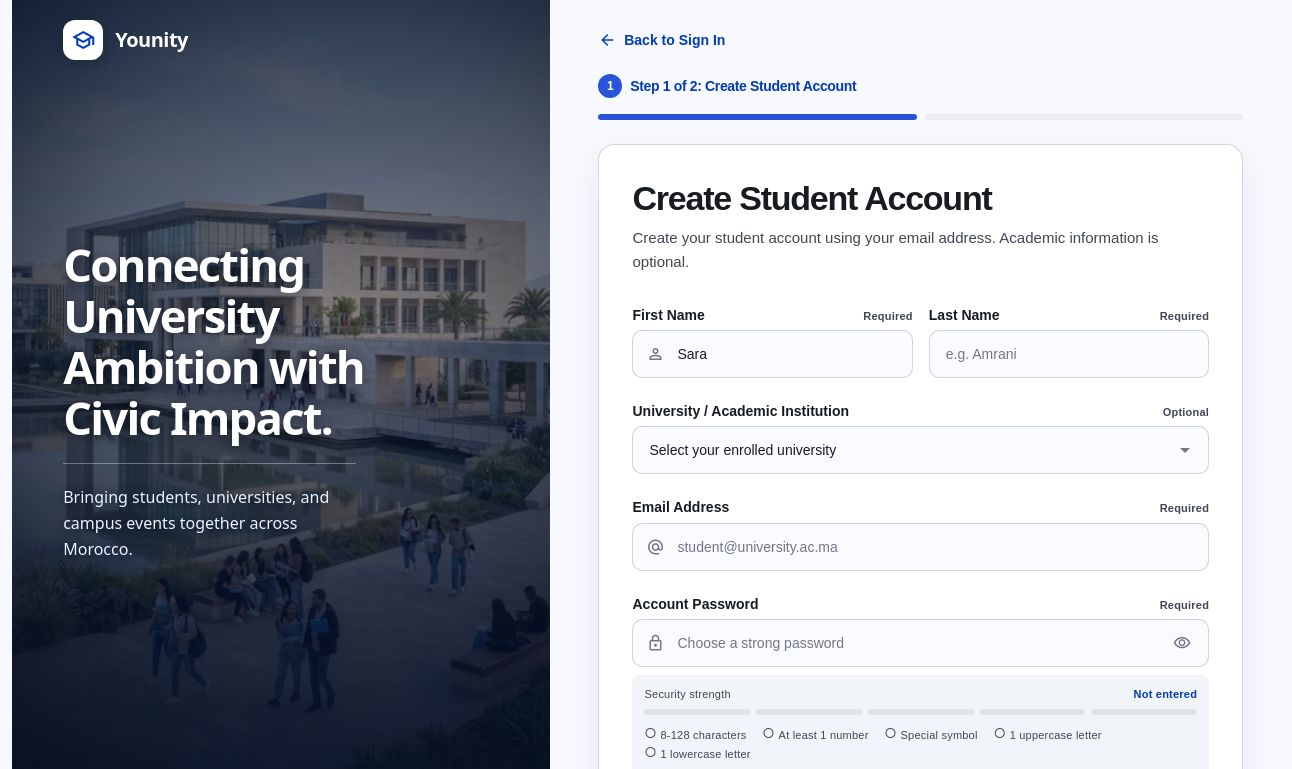
Test: registration handoff to email verification › submits student registration directly to email verification with no preferences selected
Earlier steps of the test are not shown.
Type "Test" into the field labelled "Last Name" at (1069, 354), box x1=929 y1=330 x2=1209 y2=378
Select "Other" in the dropdown labelled "University / Academic Institution" at (921, 450), box x1=632 y1=426 x2=1209 y2=474
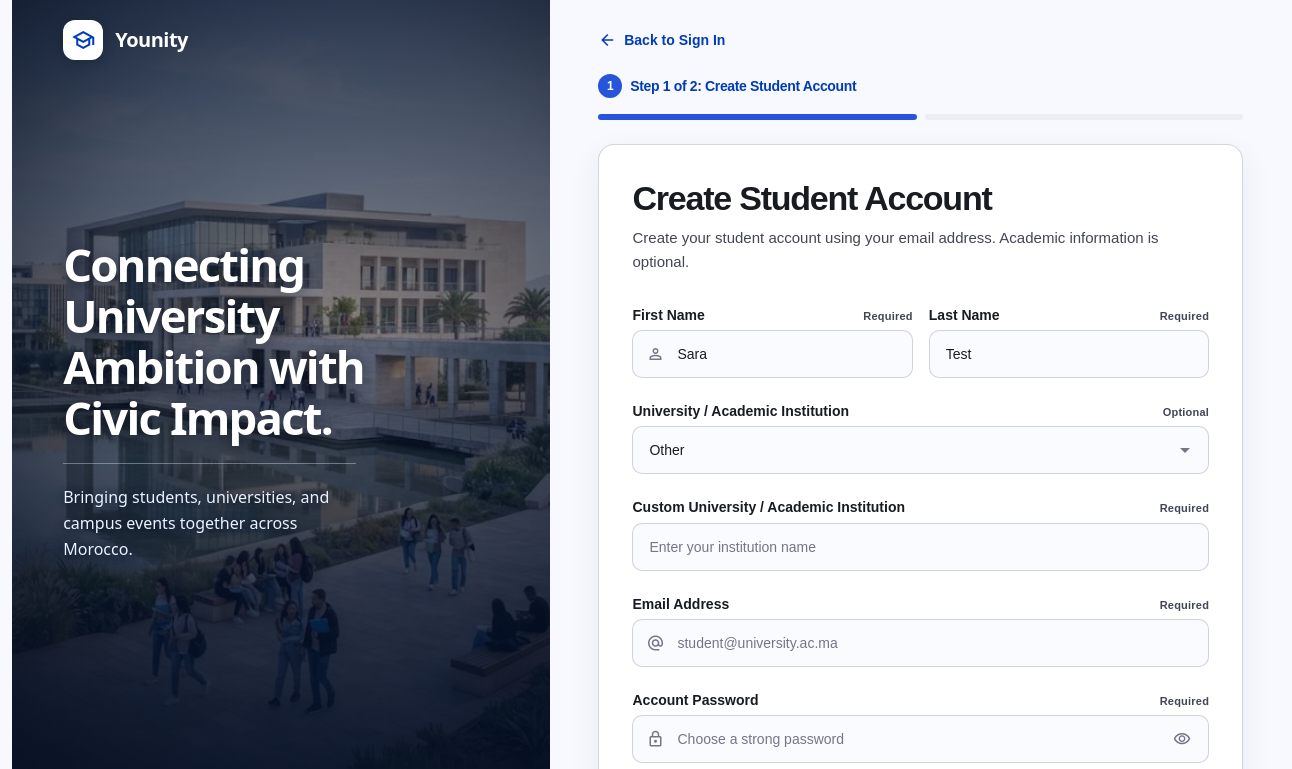
Type "Test Institute" into the field labelled "Custom University / Academic Institution" at (921, 547), box x1=632 y1=523 x2=1209 y2=571
Type "sara@example.test" into the field labelled "Email Address" at (921, 643), box x1=632 y1=619 x2=1209 y2=667
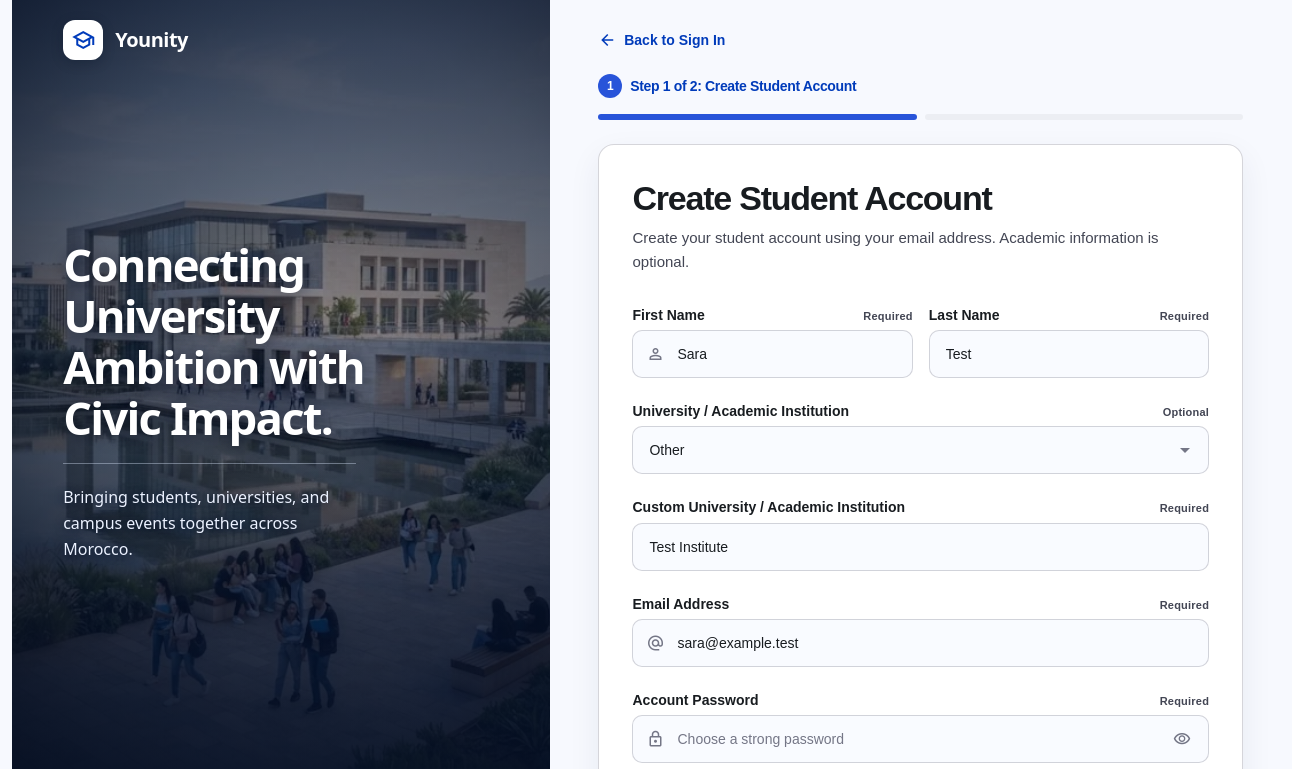
Type "Abcdefg1!" into the password field labelled "Account Password" at (921, 739), box x1=632 y1=715 x2=1209 y2=763
(page scrolled)
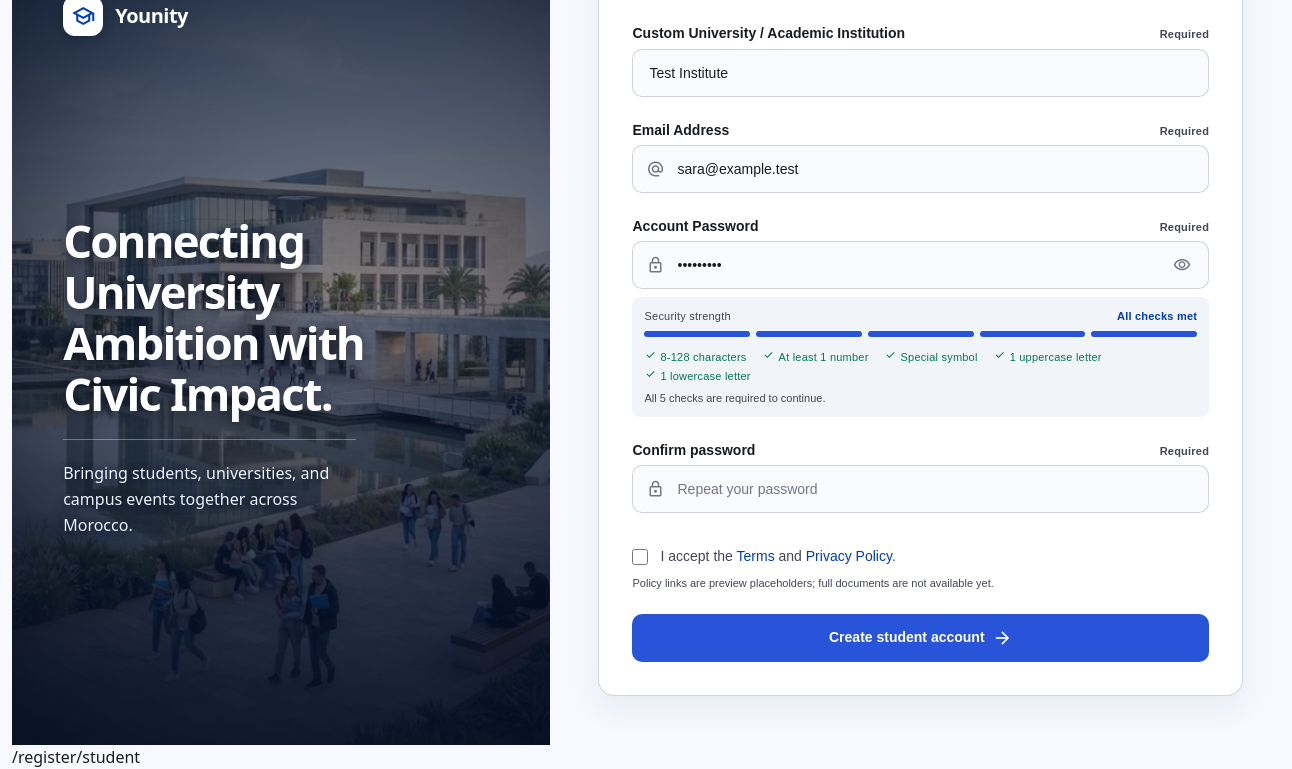
Type "Abcdefg1!" into the password field labelled "Confirm password" at (921, 489), box x1=632 y1=465 x2=1209 y2=513
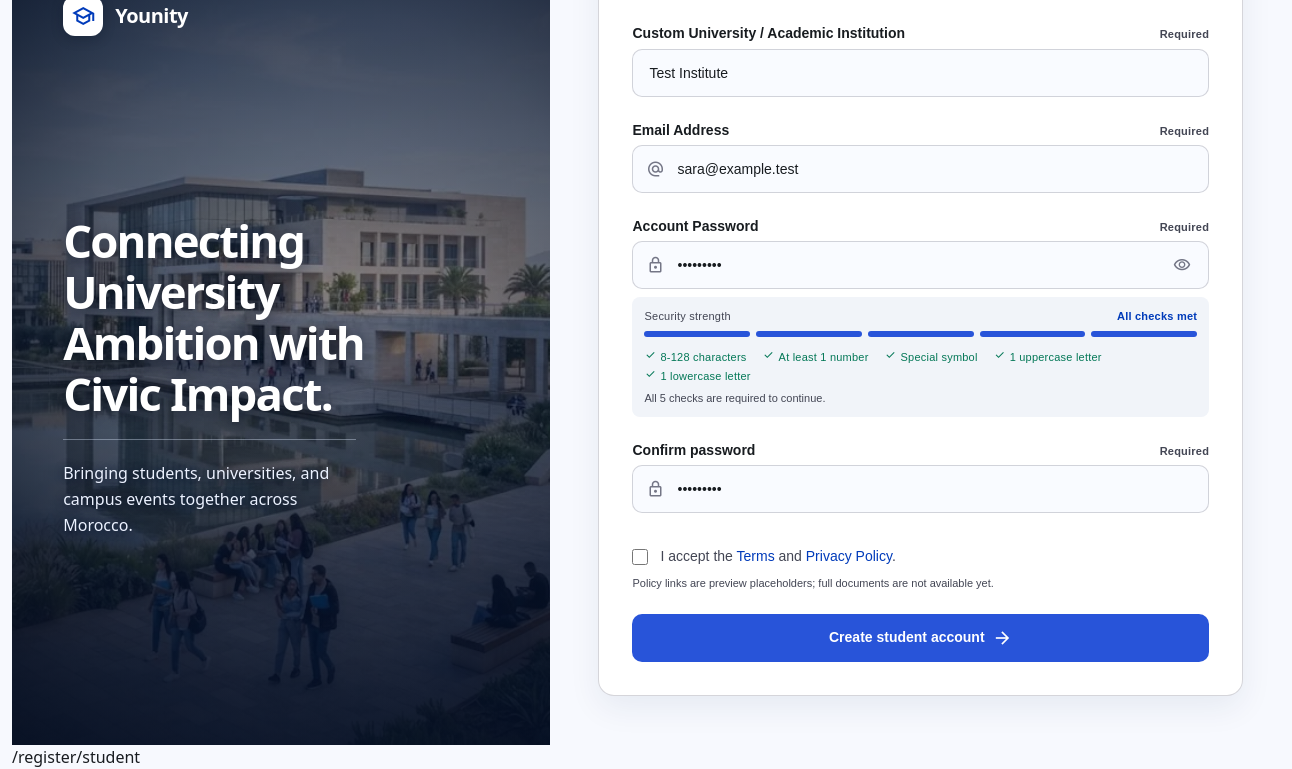
Click the checkbox at (640, 557), box x1=632 y1=549 x2=648 y2=565
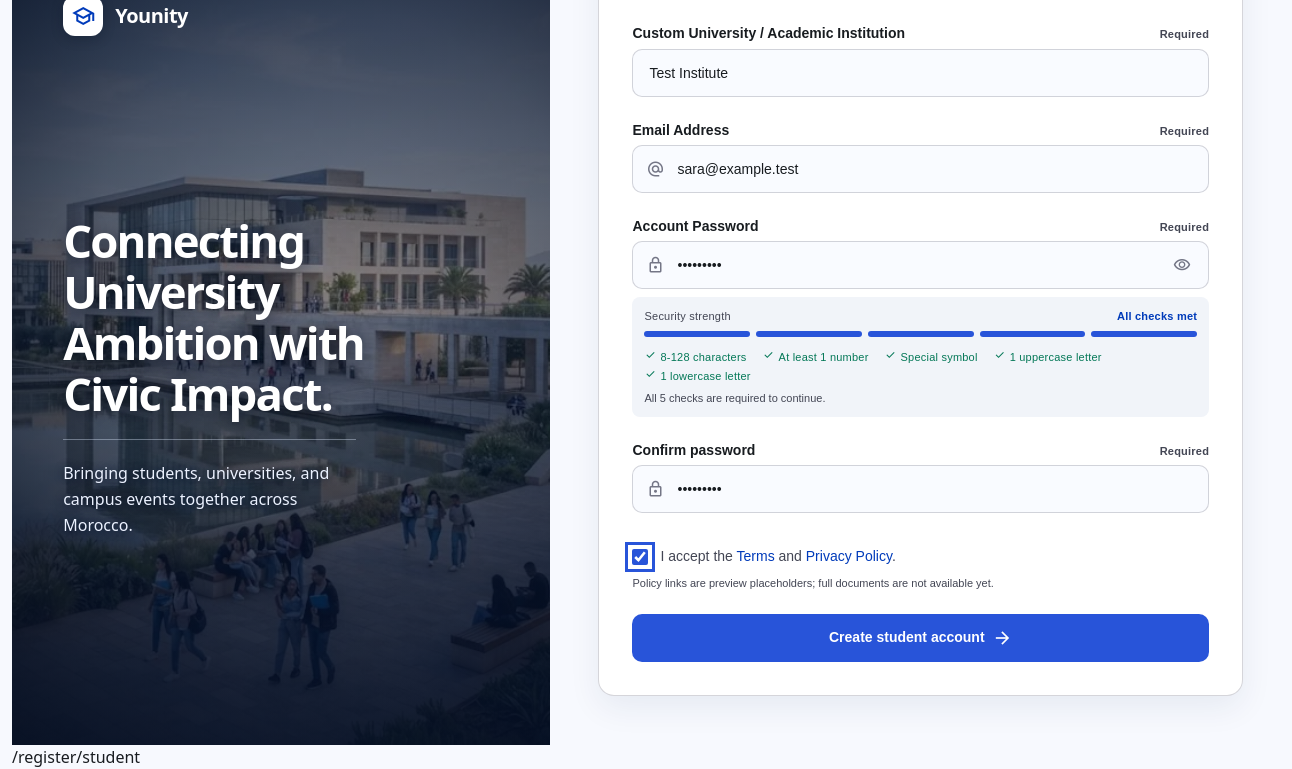
Expected: the link "Sign In" is not shown
Click the button "Create student account" at (921, 638), box x1=632 y1=614 x2=1209 y2=662
(page scrolled)
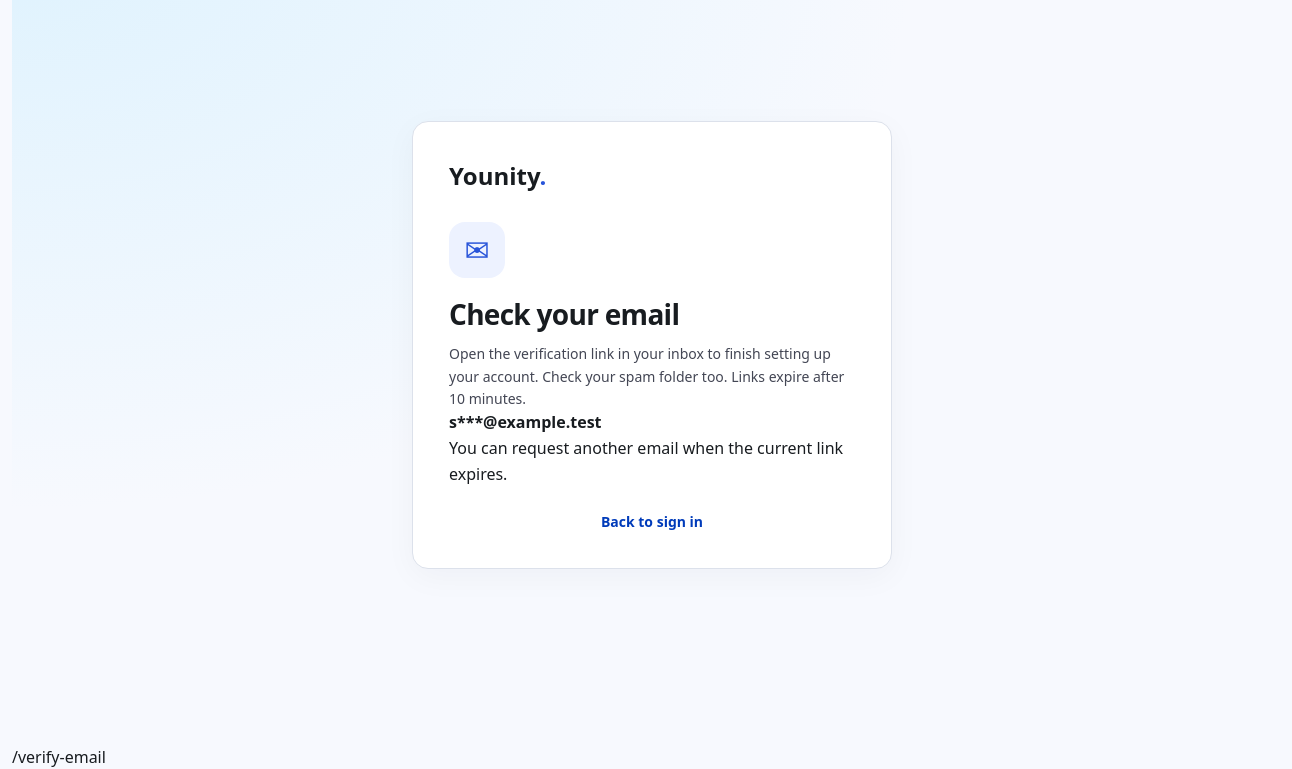
Expected: the heading "Check your email" is shown, x1=449 y1=295 x2=679 y2=333
Expected: the text named "Current route" reads "/verify-email", x1=12 y1=746 x2=106 y2=768
